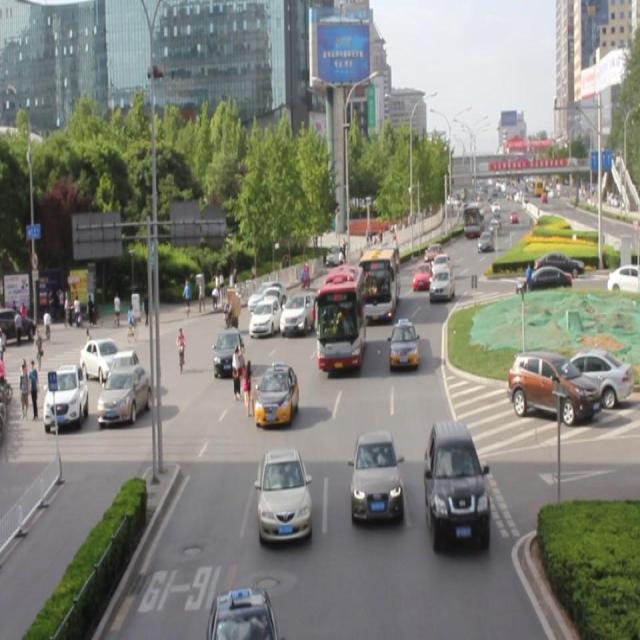car: (425, 420, 487, 542), (256, 448, 310, 543), (350, 430, 402, 519), (207, 586, 274, 640), (253, 365, 297, 424), (280, 286, 315, 336), (213, 325, 247, 373), (249, 293, 282, 334), (389, 320, 416, 370), (429, 264, 453, 301), (411, 260, 431, 289), (431, 253, 450, 278)
van: (317, 266, 363, 366), (360, 245, 398, 318)
